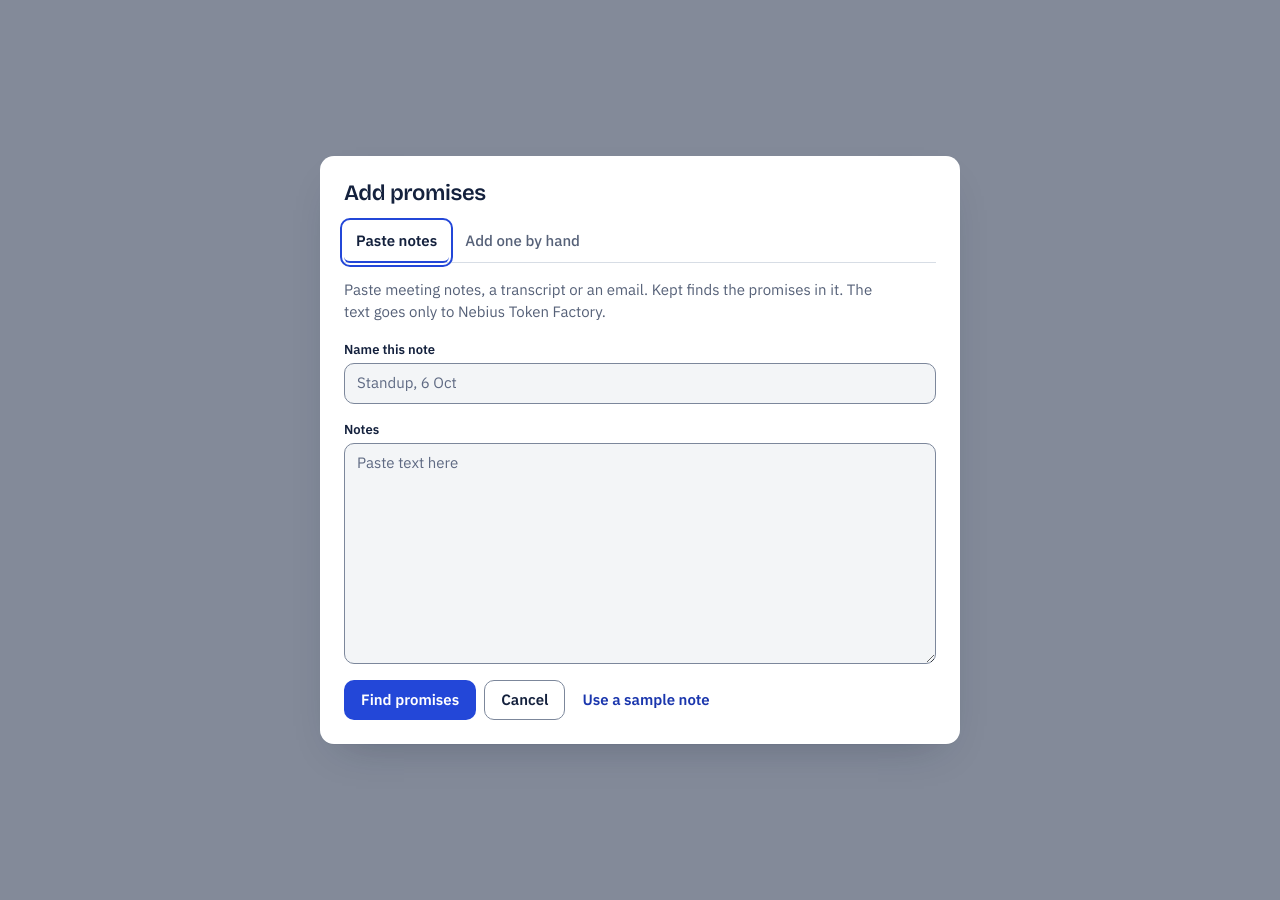
Composer: adding a promise by hand › switches between pasting notes and adding by hand
Expected: the button "Find promises" is shown, [344, 680, 476, 720]
Click the tab "Add one by hand" at (523, 243), box [453, 222, 592, 263]
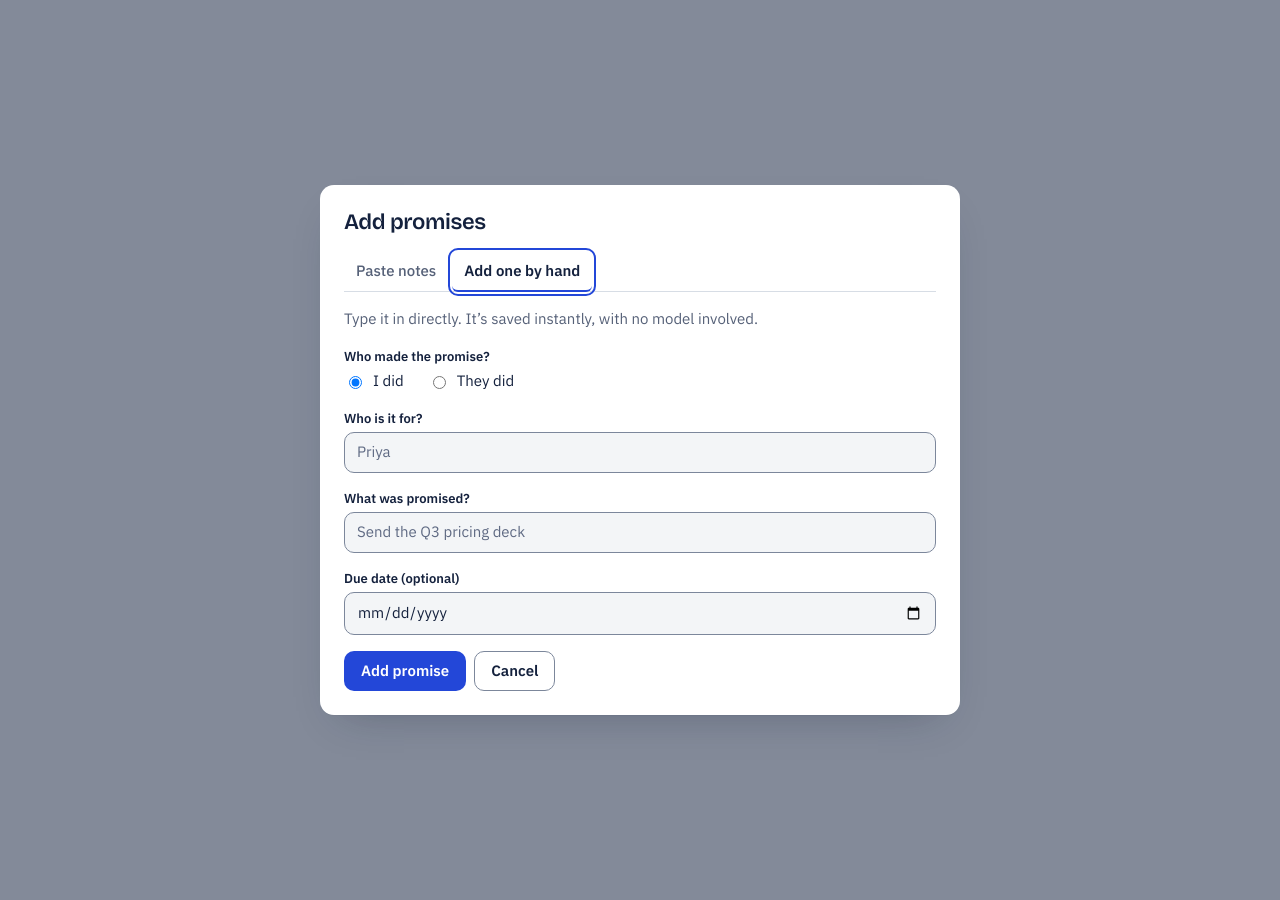
Expected: the button "Add promise" is shown, [344, 651, 466, 691]
Expected: the button "Find promises" is gone
